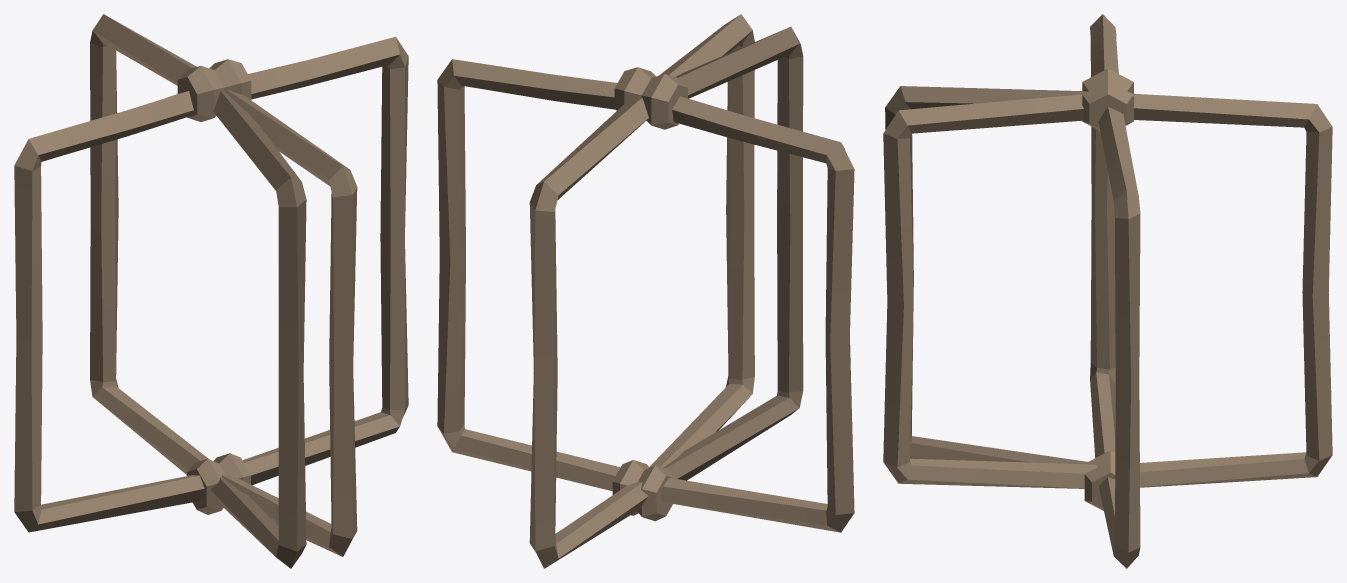
File: SM_Prop_Crate_01_Insert_02.fbx
3 renders of one model, left to right at view 1: azimuth 30°, elevation 25°; view 2: azimuth 150°, elevation 25°; view 3: azimuth 270°, elevation 25°, orthographic. The views are drawn at different scales.
Parts seen in each view (by area): view 1: SM_Prop_Crate_01_Insert_02; view 2: SM_Prop_Crate_01_Insert_02; view 3: SM_Prop_Crate_01_Insert_02.
Part boxes in pixels (x1,y1,x2,y2): SM_Prop_Crate_01_Insert_02: [14, 14, 408, 568]; SM_Prop_Crate_01_Insert_02: [437, 14, 854, 568]; SM_Prop_Crate_01_Insert_02: [883, 14, 1332, 568].
Bounding box in the file's own units: 74.97 × 79.53 × 74.99.
